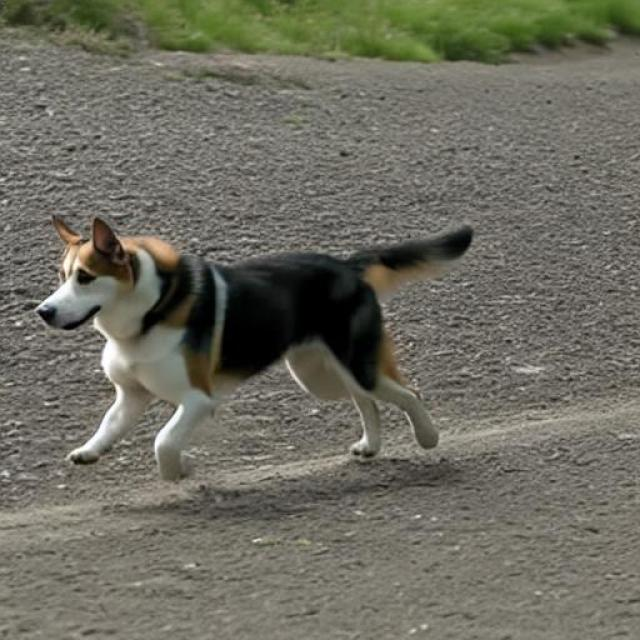Dog: (37, 214, 472, 482)
